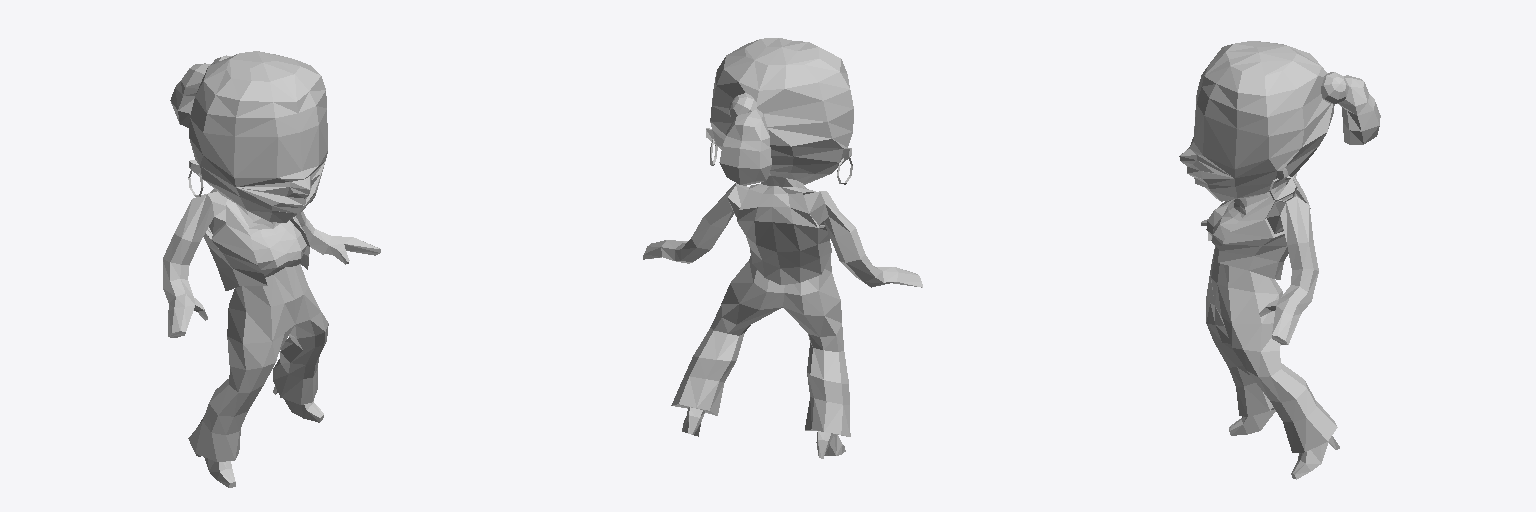
Rendered from bailarina_000047.obj.
3 views of the same model, side by side, from view 1: azimuth 30°, elevation 25°; view 2: azimuth 150°, elevation 25°; view 3: azimuth 270°, elevation 25° (orthographic).
Parts seen in each view (by area): view 1: bAilarina:Mesh; view 2: bAilarina:Mesh; view 3: bAilarina:Mesh.
Boxes of the visible parts, x1=… form: bAilarina:Mesh: x1=163, y1=51, x2=380, y2=487; bAilarina:Mesh: x1=643, y1=38, x2=922, y2=458; bAilarina:Mesh: x1=1179, y1=41, x2=1380, y2=479.
Bounding box in the file's own units: 10.81 × 17.14 × 7.74.